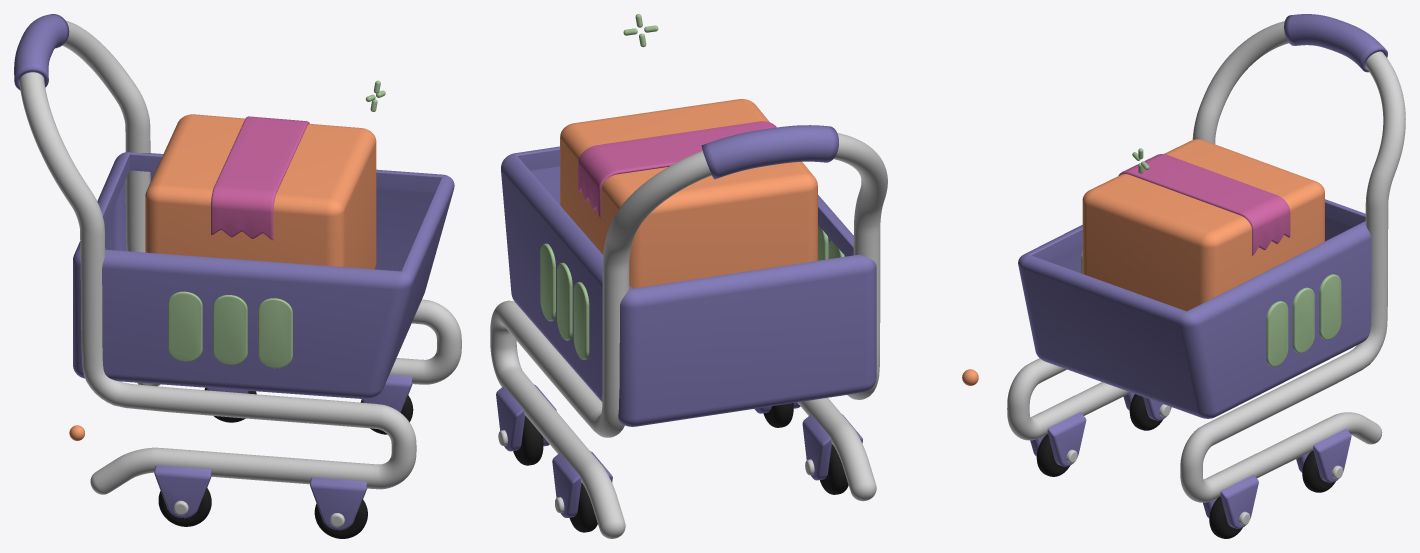
The model's file is shopping-cart-3d-animated-icon-401618826522.glb.
3 views of the same model, side by side, from view 1: azimuth 30°, elevation 25°; view 2: azimuth 150°, elevation 25°; view 3: azimuth 270°, elevation 25° (orthographic). The views are drawn at different scales.
Parts seen in each view (by area): view 1: Cube.003, Cube.002, Cube, Cube.001, Cube.004, Cube.018, Cube.019, Cylinder.002; view 2: Cube.003, Cube, Cube.002, Cube.001, Cube.019, Cube.018, Cube.004, Cylinder.002; view 3: Cube.003, Cube, Cube.002, Cube.001, Cube.018, Cube.004, Cube.019, Cylinder.002, Cylinder.001.
Part boxes in pixels (<box>): Cube.003: <box>73,152,454,399</box>; Cube.002: <box>19,20,461,494</box>; Cube: <box>145,114,376,269</box>; Cube.001: <box>211,116,309,240</box>; Cube.004: <box>168,291,292,368</box>; Cube.018: <box>154,374,412,530</box>; Cube.019: <box>14,14,69,90</box>; Cylinder.002: <box>158,387,413,538</box>; Cube.003: <box>501,146,876,426</box>; Cube: <box>560,99,817,288</box>; Cube.002: <box>490,133,887,538</box>; Cube.001: <box>578,121,776,218</box>; Cube.019: <box>701,125,838,179</box>; Cube.018: <box>496,384,862,517</box>; Cube.004: <box>540,225,844,359</box>; Cylinder.002: <box>513,403,848,532</box>; Cube.003: <box>1018,199,1371,418</box>; Cube: <box>1082,139,1324,311</box>; Cube.002: <box>1007,21,1405,502</box>; Cube.001: <box>1118,154,1290,255</box>; Cube.018: <box>1030,392,1351,528</box>; Cube.004: <box>1081,251,1341,366</box>; Cube.019: <box>1284,14,1387,72</box>; Cylinder.002: <box>1036,394,1335,538</box>; Cylinder.001: <box>1066,404,1343,525</box>.
Size of the model in its own units: 3.35 by 3.23 by 3.02.
